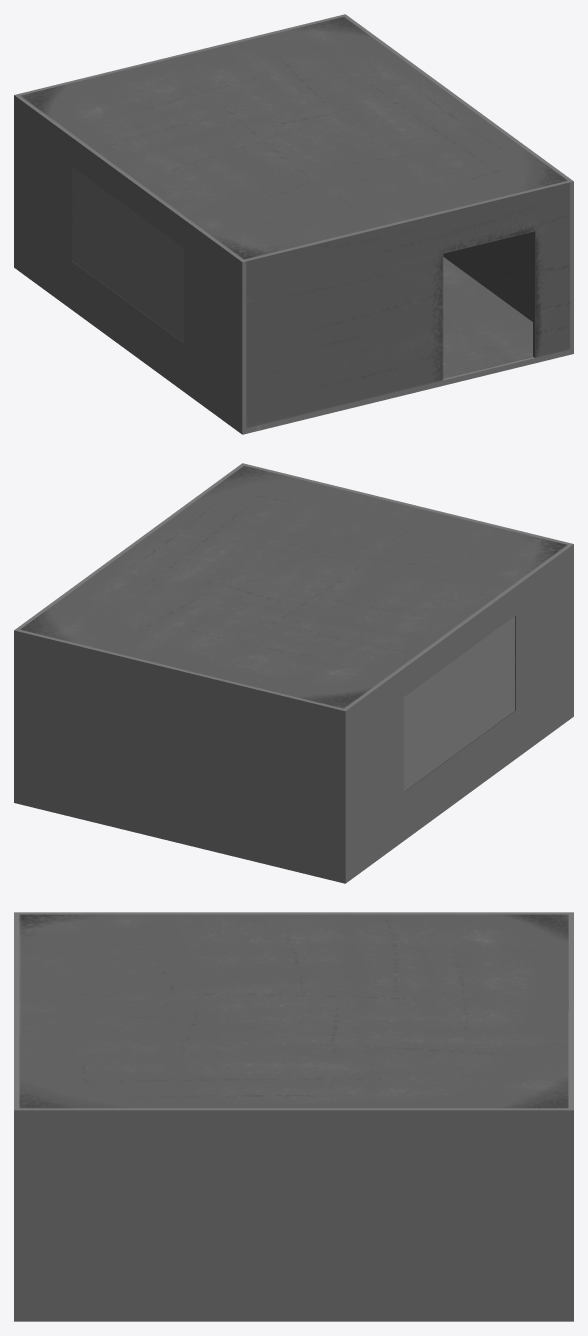
File: InterrogationRoom.fbx
3 views of the same model, one above another, from view 1: azimuth 30°, elevation 25°; view 2: azimuth 150°, elevation 25°; view 3: azimuth 270°, elevation 25° (orthographic). The views are drawn at different scales.
Visible parts, largest first — view 1: InterrogationRoom, InterrogrationRoomMirror; view 2: InterrogationRoom, InterrogrationRoomMirror; view 3: InterrogationRoom.
Boxes of the visible parts, x1,y1,x2,y2 form: InterrogationRoom: (14,14,573,434); InterrogrationRoomMirror: (73,167,183,342); InterrogationRoom: (14,463,573,883); InterrogrationRoomMirror: (404,616,514,791); InterrogationRoom: (14,912,573,1321).
Size of the model in its own units: 1023 by 509 by 1221.
